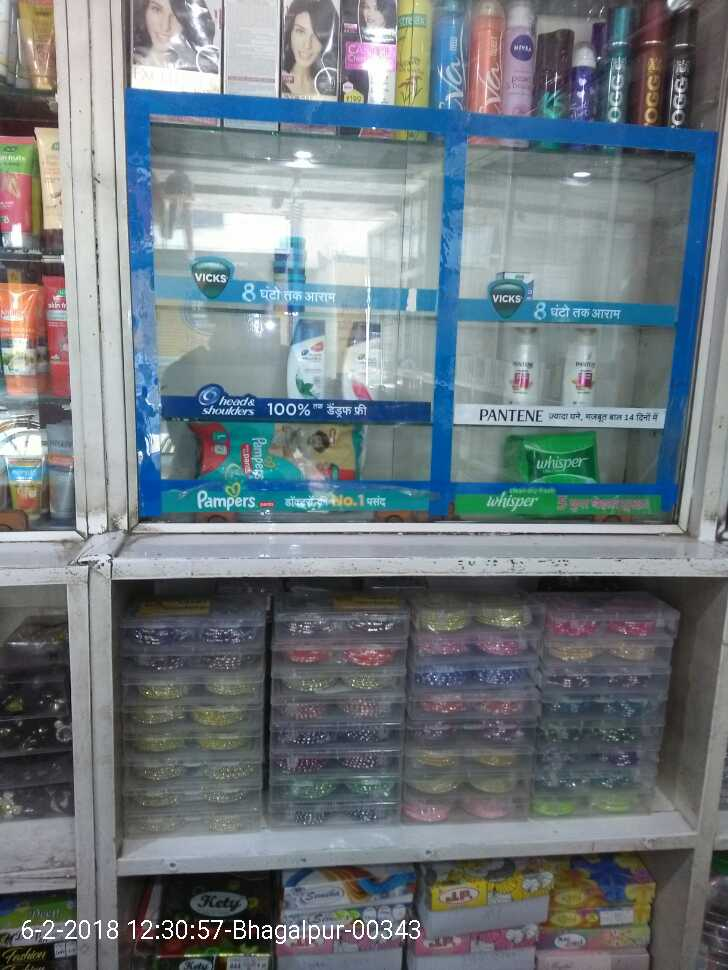vicks: (246, 233, 312, 300)
